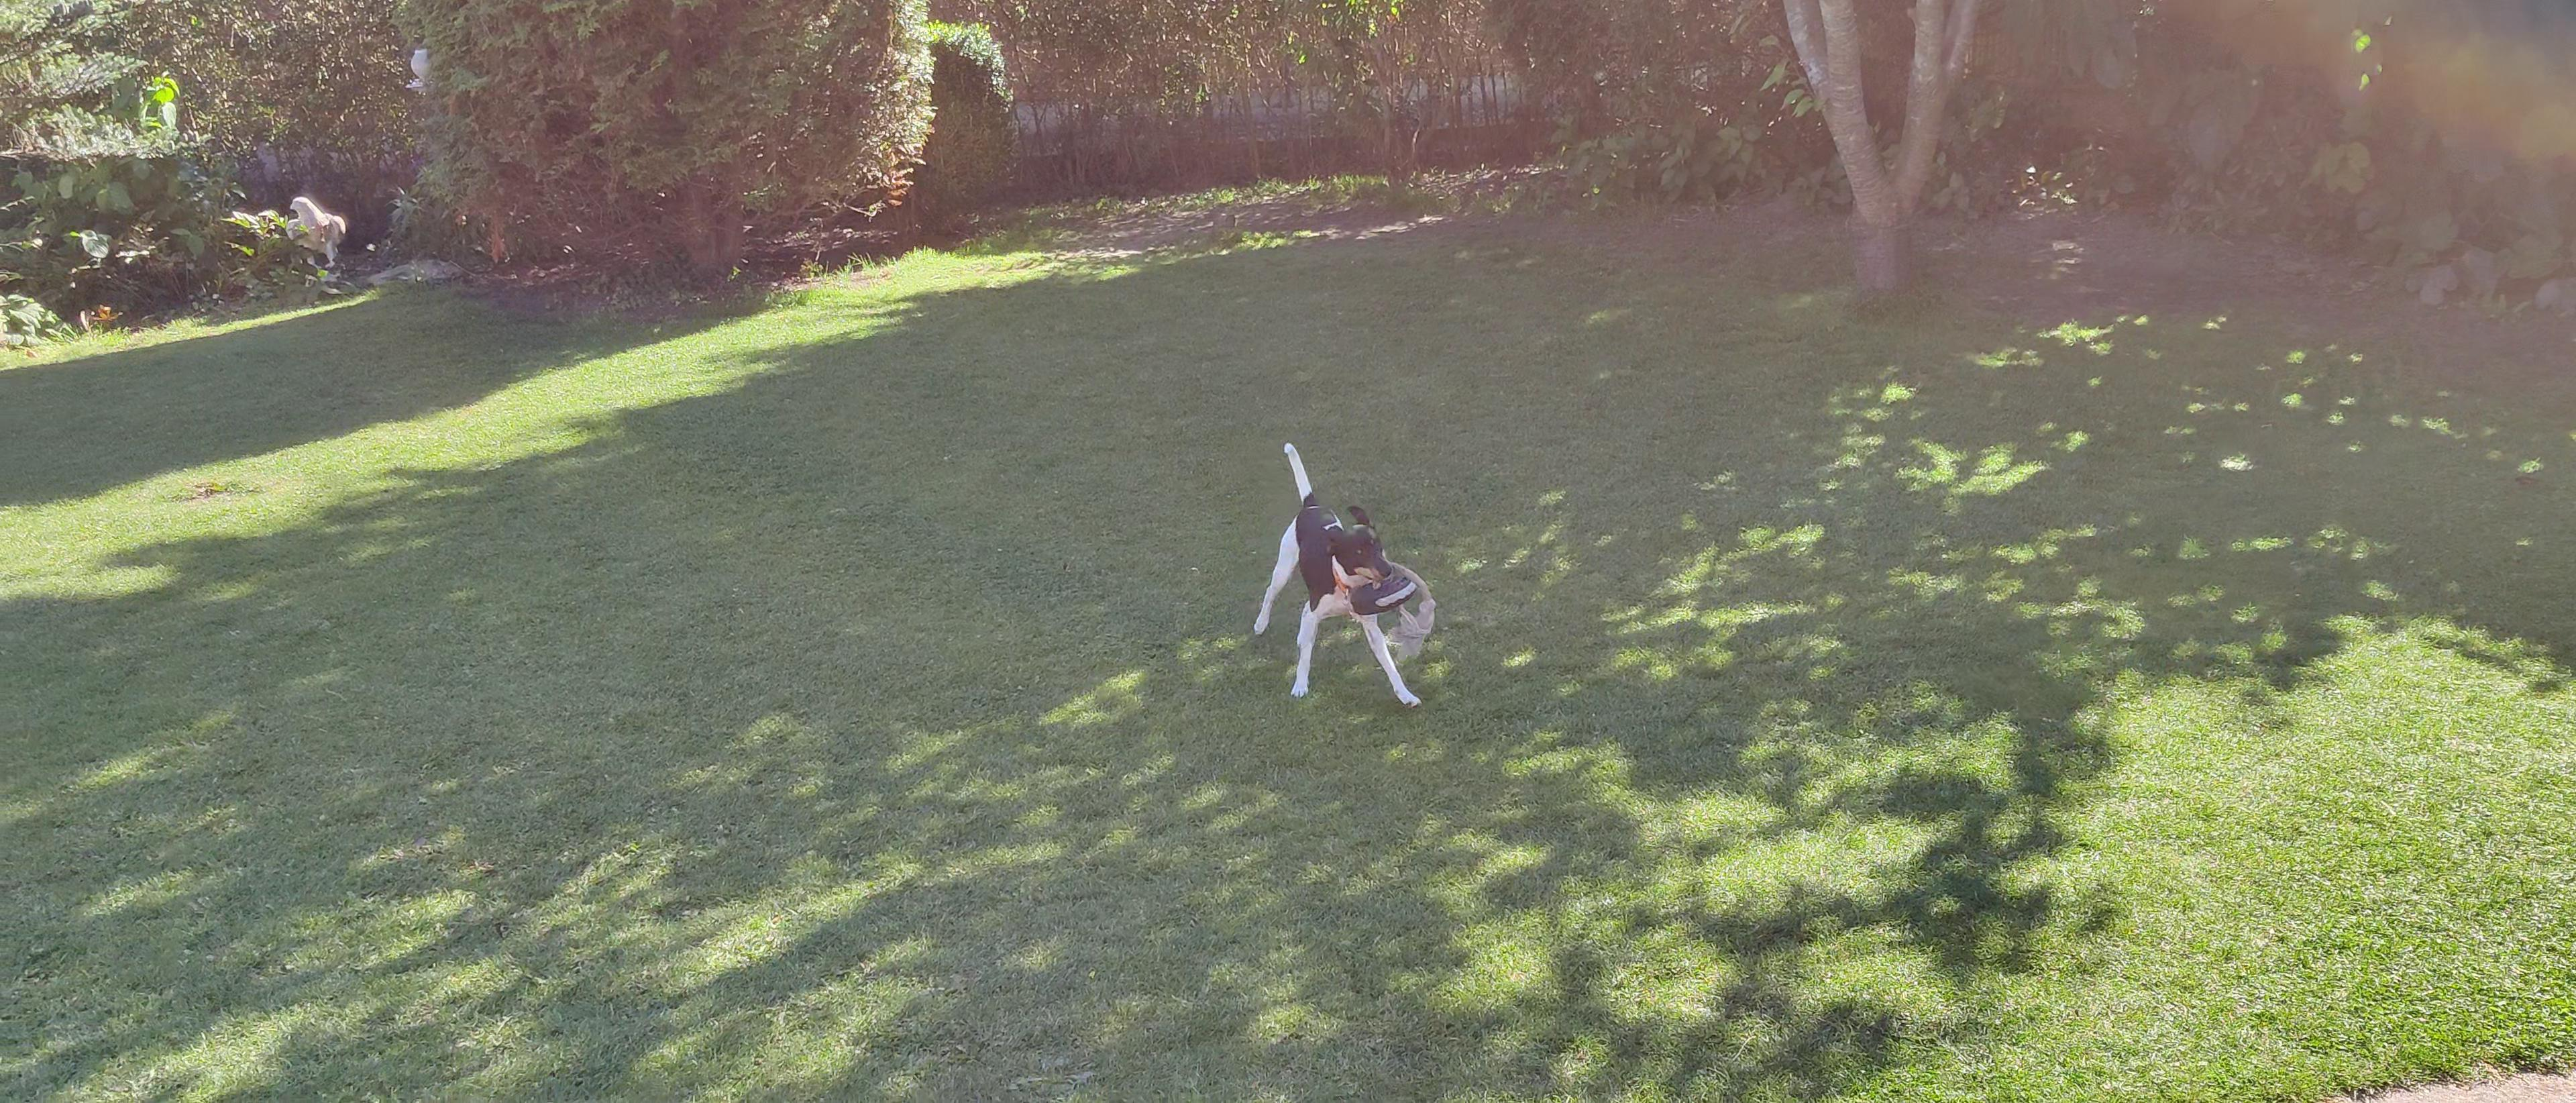Dog: (1245, 434, 1429, 715)
